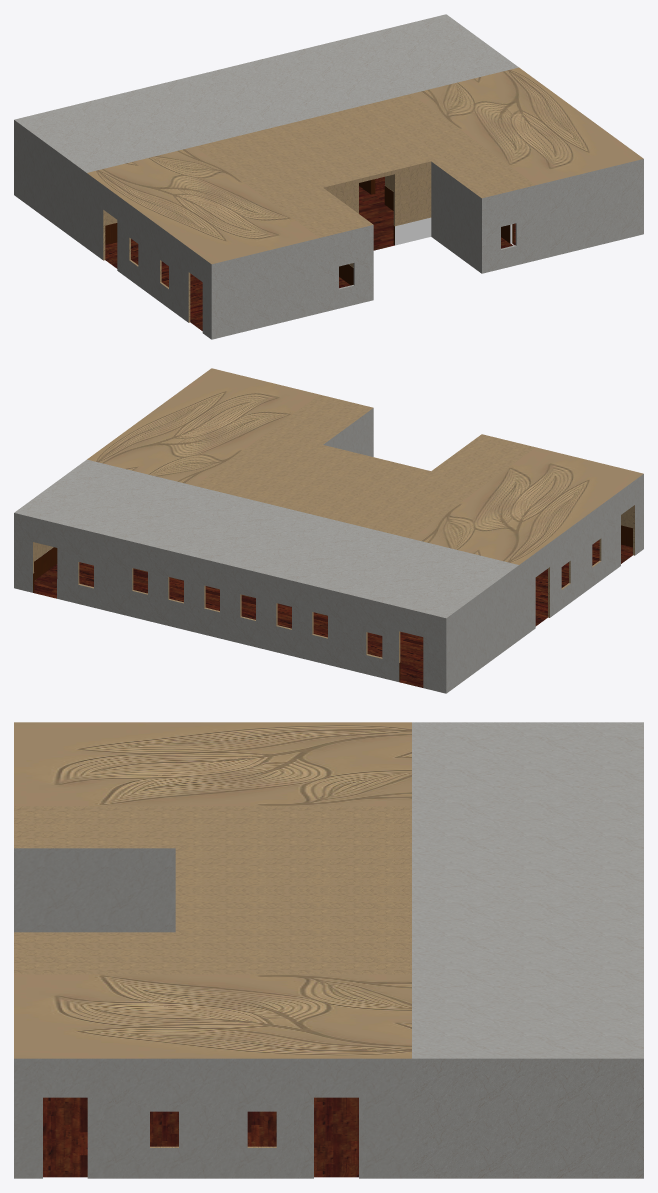
File: Back.glb
The picture shows the model from 3 angles, top to bottom: view 1: azimuth 30°, elevation 25°; view 2: azimuth 150°, elevation 25°; view 3: azimuth 270°, elevation 25°; orthographic projection. The views are drawn at different scales.
Visible parts, largest first — view 1: Cube.005, Cube, Cube.008, Plane; view 2: Cube.008, Cube.005, Cube; view 3: Cube.005, Cube.008, Cube.
Boxes of the visible parts, x1=… form: Cube.005: x1=86, y1=67, x2=643, y2=339; Cube: x1=195, y1=94, x2=535, y2=313; Cube.008: x1=14, y1=14, x2=518, y2=247; Plane: x1=339, y1=177, x2=513, y2=288; Cube.008: x1=14, y1=459, x2=519, y2=693; Cube.005: x1=87, y1=368, x2=643, y2=639; Cube: x1=195, y1=394, x2=535, y2=538; Cube.005: x1=14, y1=722, x2=411, y2=1178; Cube.008: x1=412, y1=722, x2=643, y2=1178; Cube: x1=14, y1=806, x2=411, y2=974.
Size of the model in its own units: 24 by 4 by 19.
Materials: 10 (9 with a texture image).
